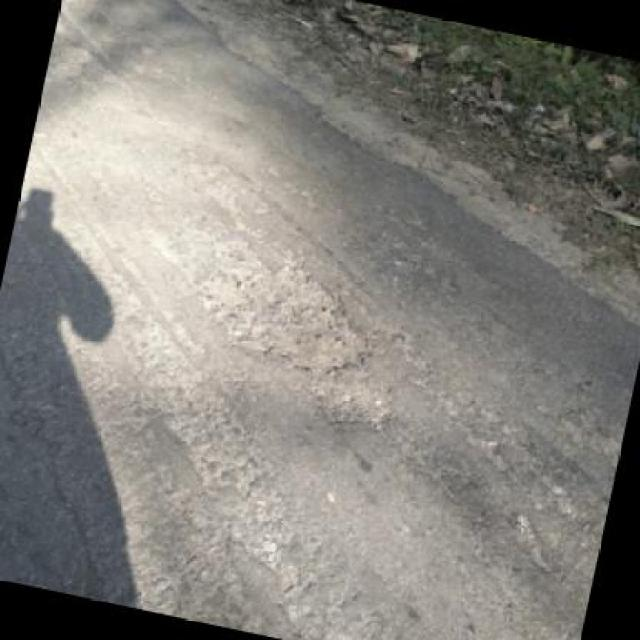pothole1: (188, 238, 394, 387), (300, 372, 395, 440)
